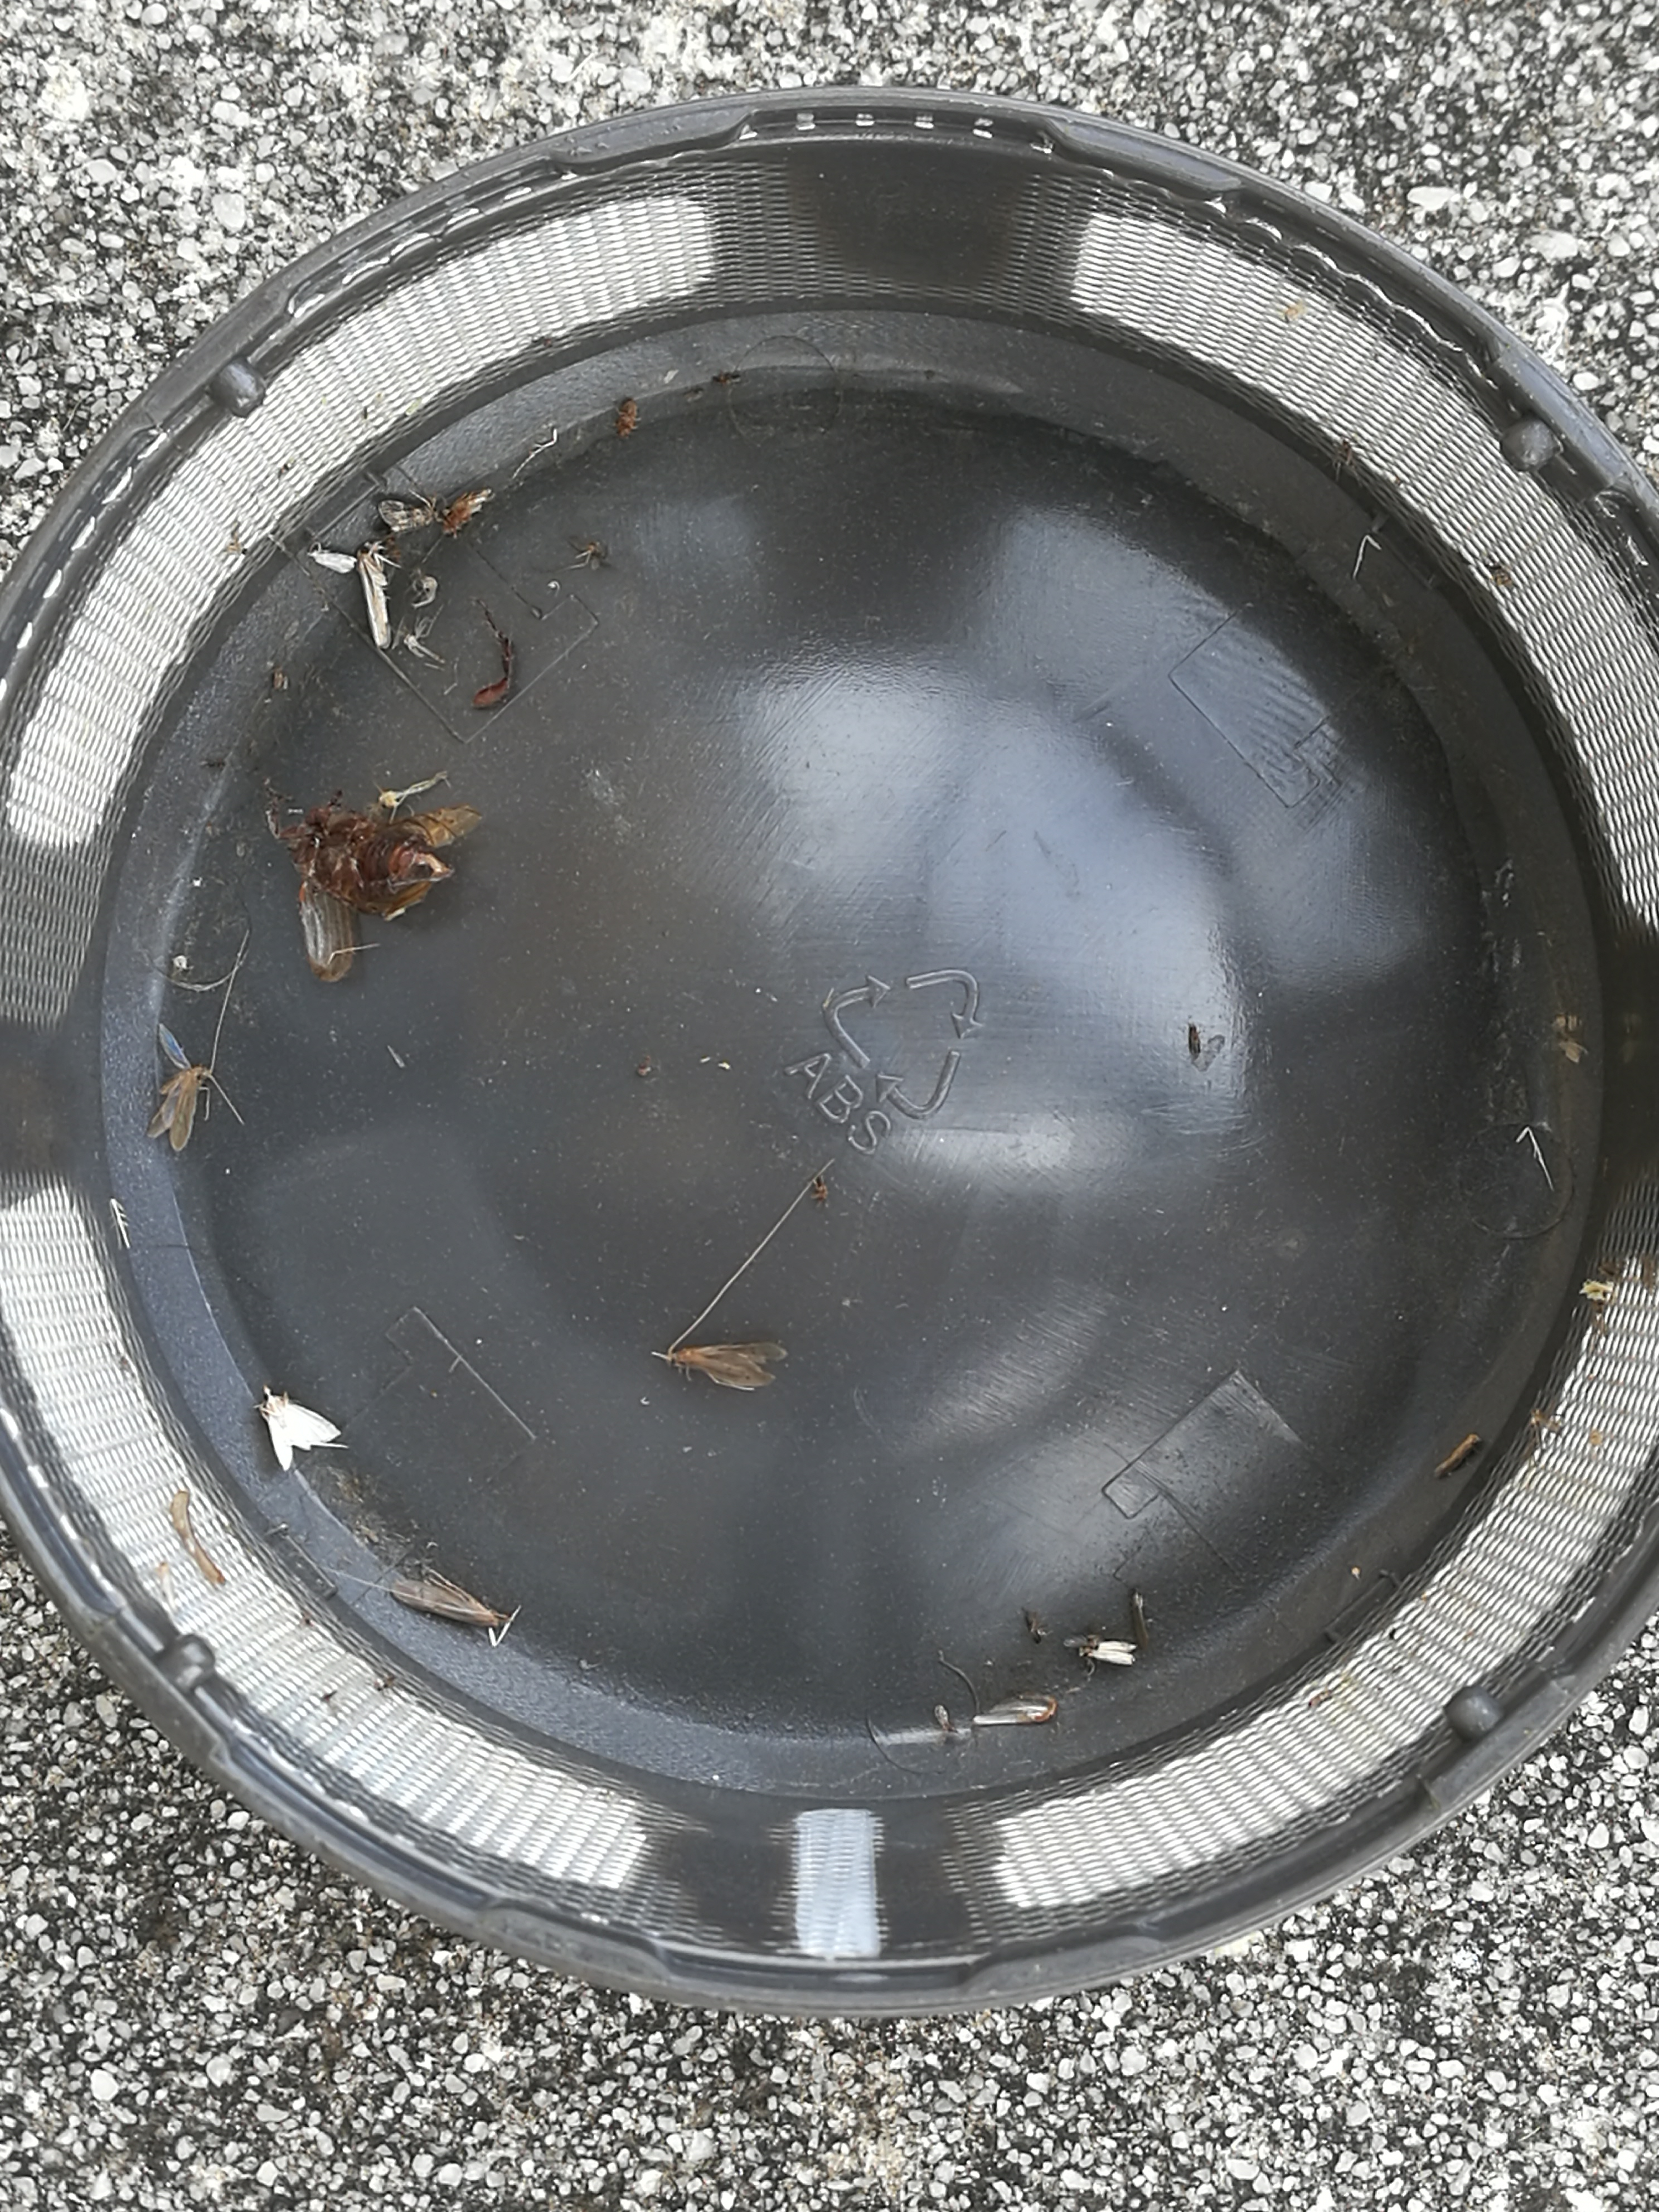beetle: (293, 806, 450, 913)
mosquito: (389, 1580, 497, 1629), (678, 1345, 784, 1388), (359, 540, 389, 646), (1080, 1641, 1134, 1667), (1441, 1433, 1478, 1472), (308, 549, 355, 573), (1133, 1595, 1147, 1648)
moth: (148, 1026, 207, 1150), (267, 1383, 342, 1468), (380, 500, 432, 528)
